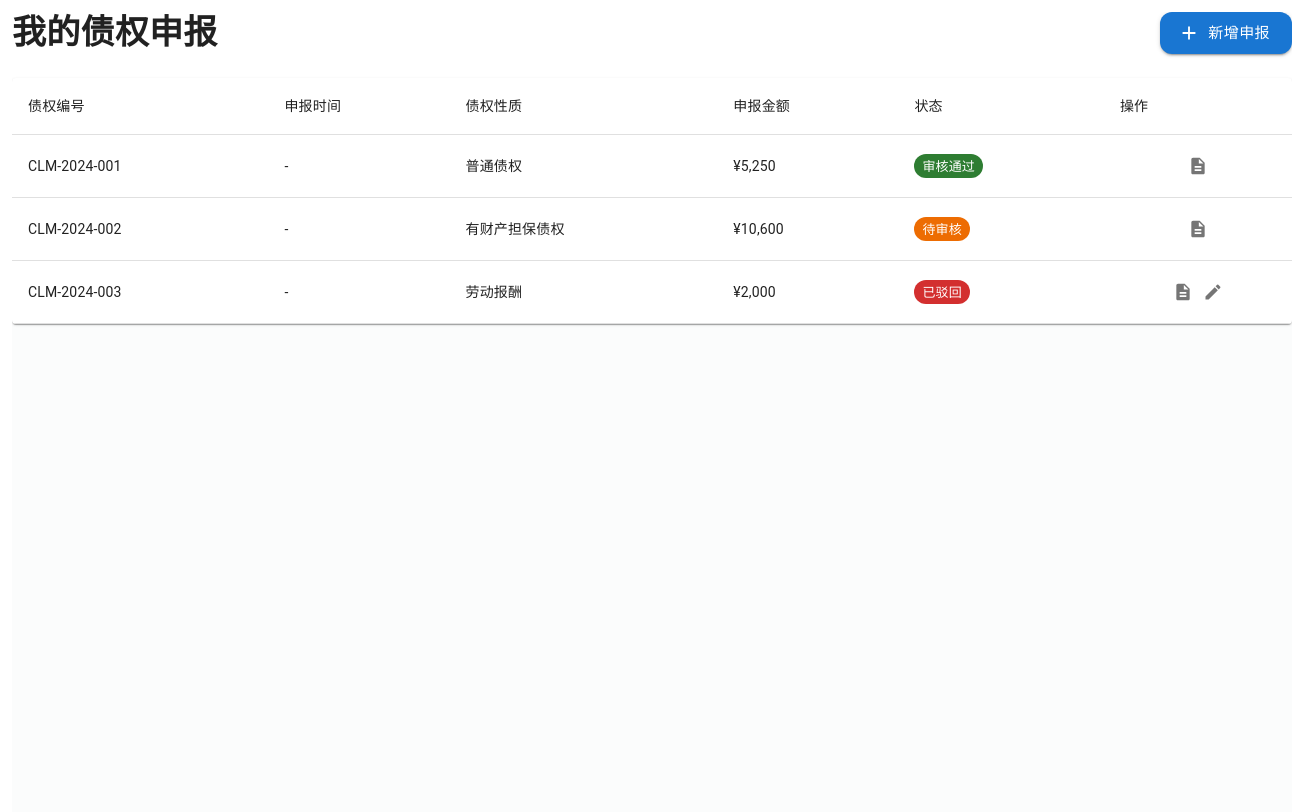
ClaimSubmissionPage › allows editing rejected claims
Expected: the text "CLM-2024-003" is shown, [28,284,122,300]
Click the button named "编辑重新提交": point(1213, 292) [1198,277,1228,307]
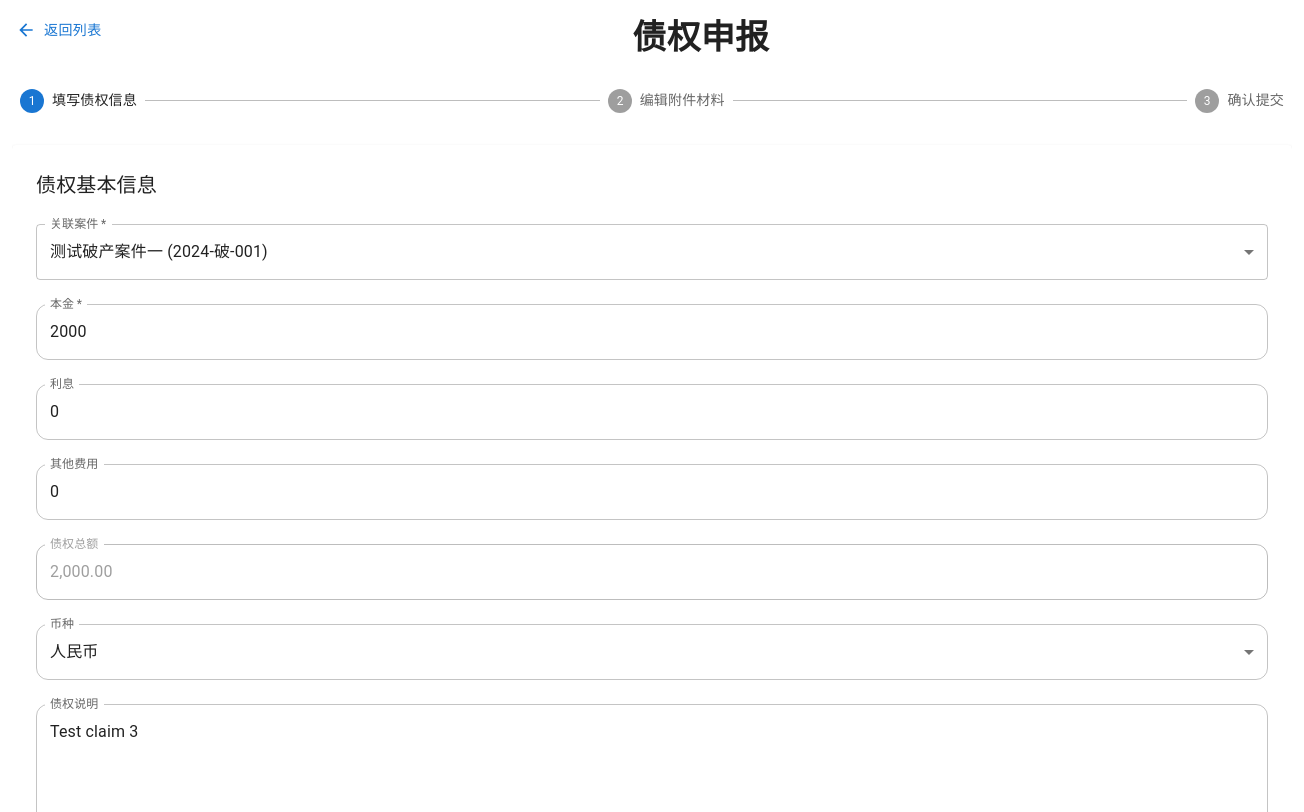
Expected: the heading "债权申报" is shown, [632,17,769,59]
Now the number field labelled "本金 *" holds "2000", box [36,304,1268,360]
